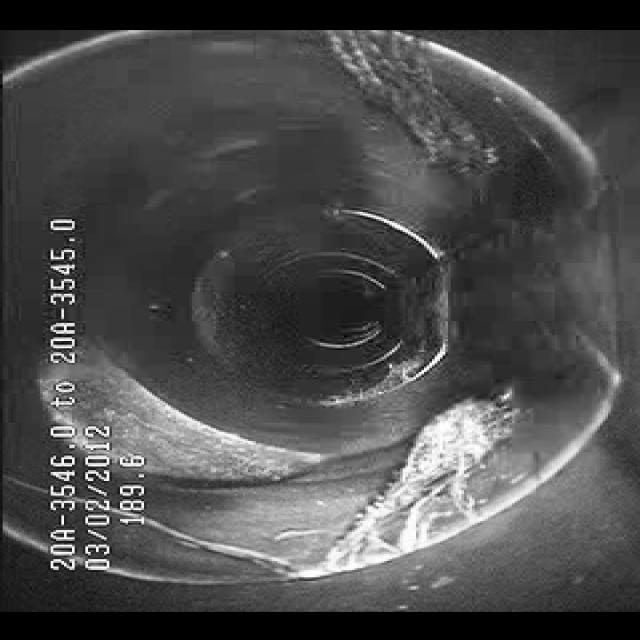Crack: (158, 510, 342, 574)
